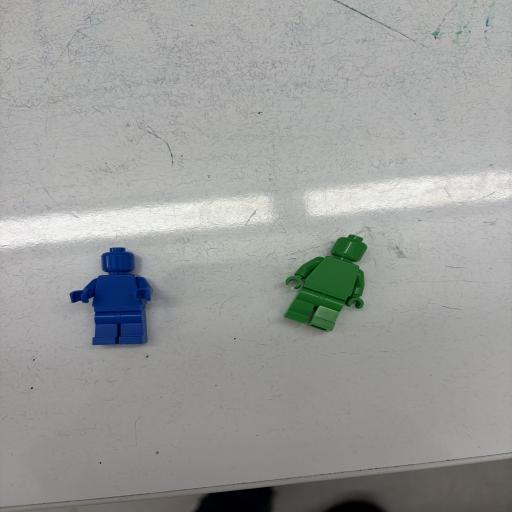Blue-Lego: (70, 247, 153, 345)
Green-Lego: (284, 234, 367, 331)
